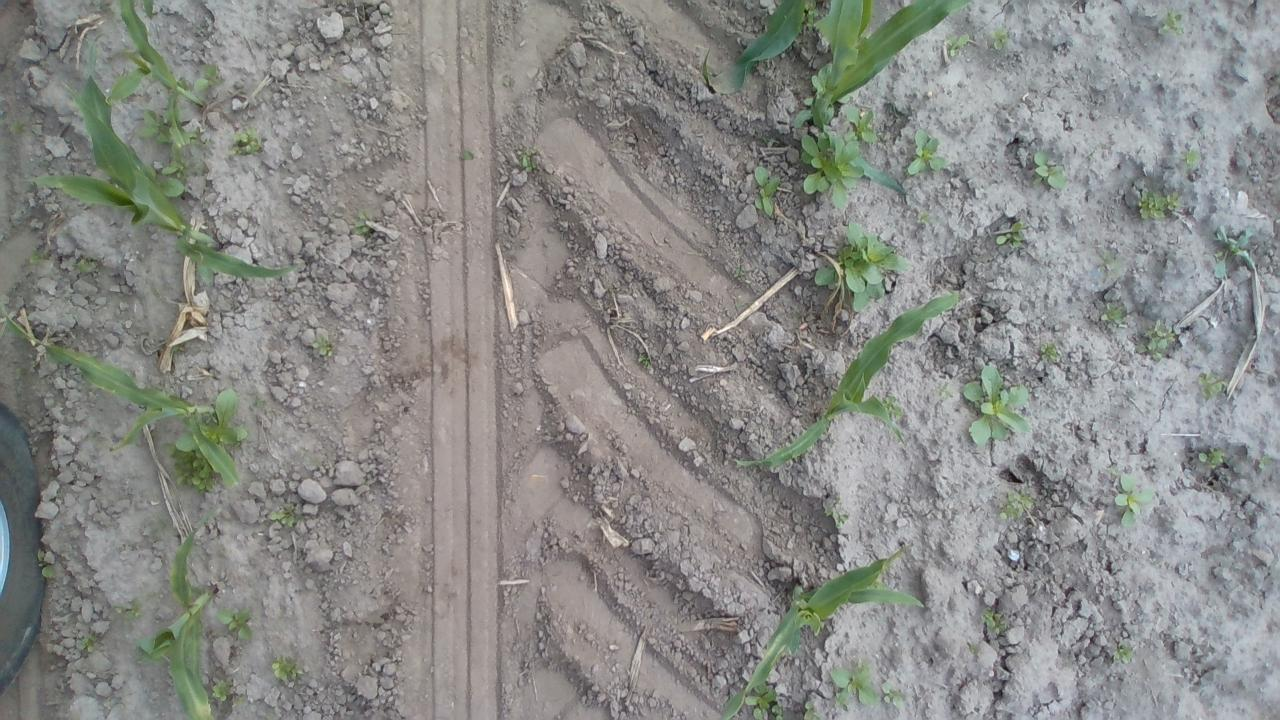Maize: (32, 35, 304, 282), (0, 296, 248, 504), (734, 286, 966, 474), (700, 0, 970, 144), (712, 543, 927, 720), (132, 505, 229, 718), (104, 5, 204, 152)
Weeds: (814, 218, 916, 311), (960, 364, 1033, 454), (799, 131, 865, 211), (158, 434, 226, 503), (136, 103, 196, 157), (1212, 224, 1262, 280), (906, 124, 954, 182), (746, 162, 788, 222), (1112, 472, 1158, 526), (829, 663, 878, 710), (841, 106, 883, 152), (1139, 322, 1174, 371), (1032, 148, 1067, 197), (1134, 188, 1182, 223), (996, 482, 1040, 520), (748, 680, 784, 720), (512, 148, 554, 181), (821, 491, 853, 533), (218, 609, 256, 644), (979, 605, 1012, 645), (1196, 364, 1226, 406), (159, 158, 198, 187), (1094, 300, 1126, 332), (222, 131, 262, 156), (998, 223, 1030, 254), (306, 332, 338, 362), (1176, 144, 1204, 178), (266, 507, 302, 533), (1193, 446, 1226, 474), (942, 36, 974, 64), (196, 62, 222, 96), (212, 680, 242, 708), (1154, 10, 1186, 35), (249, 394, 275, 424), (272, 658, 300, 683), (1112, 642, 1138, 668), (880, 680, 904, 708), (989, 28, 1012, 57), (1036, 344, 1062, 368), (114, 600, 140, 622), (352, 209, 374, 234), (80, 638, 107, 658), (802, 694, 822, 720), (8, 116, 25, 134)
